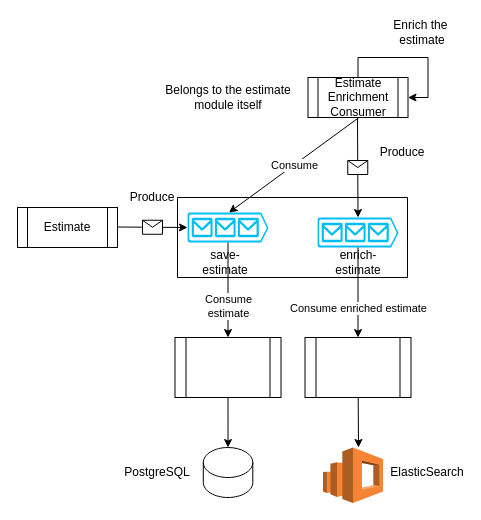
Image size: 481x520. Some labels were removed from this diagram. The centre of each missing label's shape, as x and y in pixels:
"Indexer" belongs at [357,367].
"Persister" belongs at [227,367].
